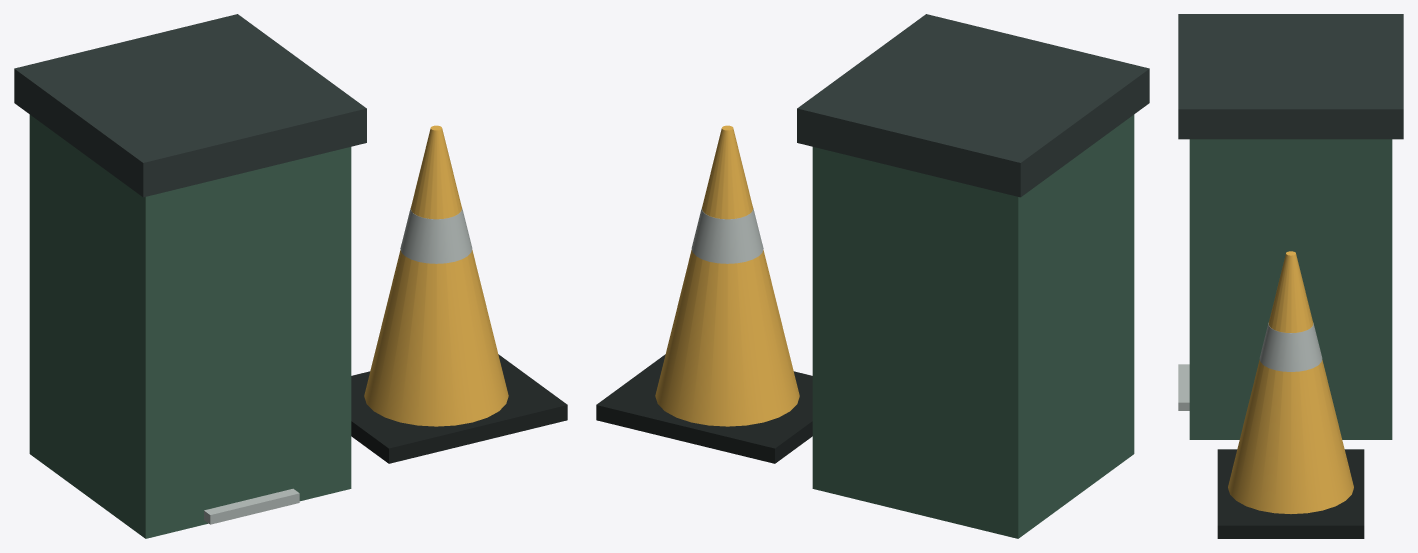
Rendered from factory-decor.glb.
3 renders of one model, left to right at view 1: azimuth 30°, elevation 25°; view 2: azimuth 150°, elevation 25°; view 3: azimuth 270°, elevation 25°, orthographic. The views are drawn at different scales.
Visible parts, largest first — view 1: BinBody, BinLid, ConeBody, ConeBase, ReflectiveBand, Pedal; view 2: BinBody, BinLid, ConeBody, ConeBase, ReflectiveBand; view 3: BinBody, BinLid, ConeBody, ConeBase, ReflectiveBand, Pedal.
Part boxes in pixels (<box>): BinBody: <box>29,114,351,538</box>; BinLid: <box>14,14,366,197</box>; ConeBody: <box>364,125,508,426</box>; ConeBase: <box>351,354,567,463</box>; ReflectiveBand: <box>400,206,472,263</box>; Pedal: <box>204,488,299,524</box>; BinBody: <box>812,114,1134,538</box>; BinLid: <box>797,14,1149,197</box>; ConeBody: <box>655,125,799,426</box>; ConeBase: <box>596,354,812,463</box>; ReflectiveBand: <box>691,206,763,263</box>; BinBody: <box>1189,139,1392,439</box>; BinLid: <box>1178,14,1403,139</box>; ConeBody: <box>1228,251,1353,513</box>; ConeBase: <box>1217,449,1364,538</box>; ReflectiveBand: <box>1259,323,1322,371</box>; Pedal: <box>1178,364,1189,410</box>.
Size of the model in its own units: 1.1 by 0.9 by 0.55.
